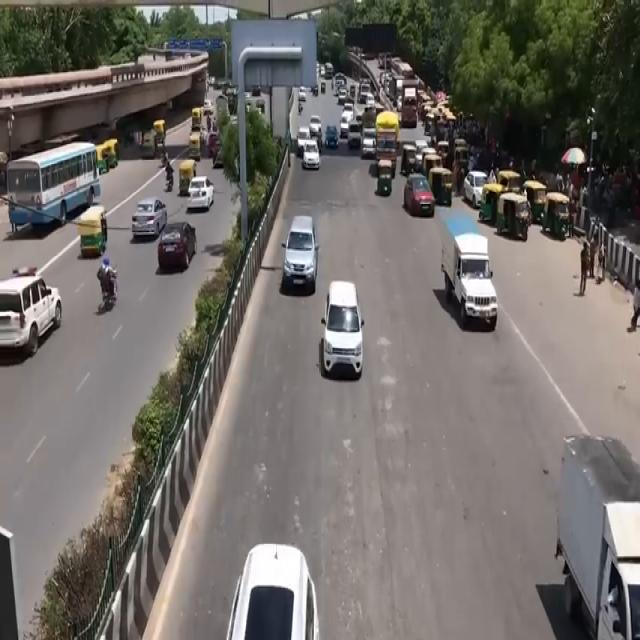BUS: (8, 144, 104, 240)
SUV: (324, 283, 365, 383), (284, 216, 317, 300)
TRUCK: (559, 433, 639, 639), (443, 217, 499, 332)
